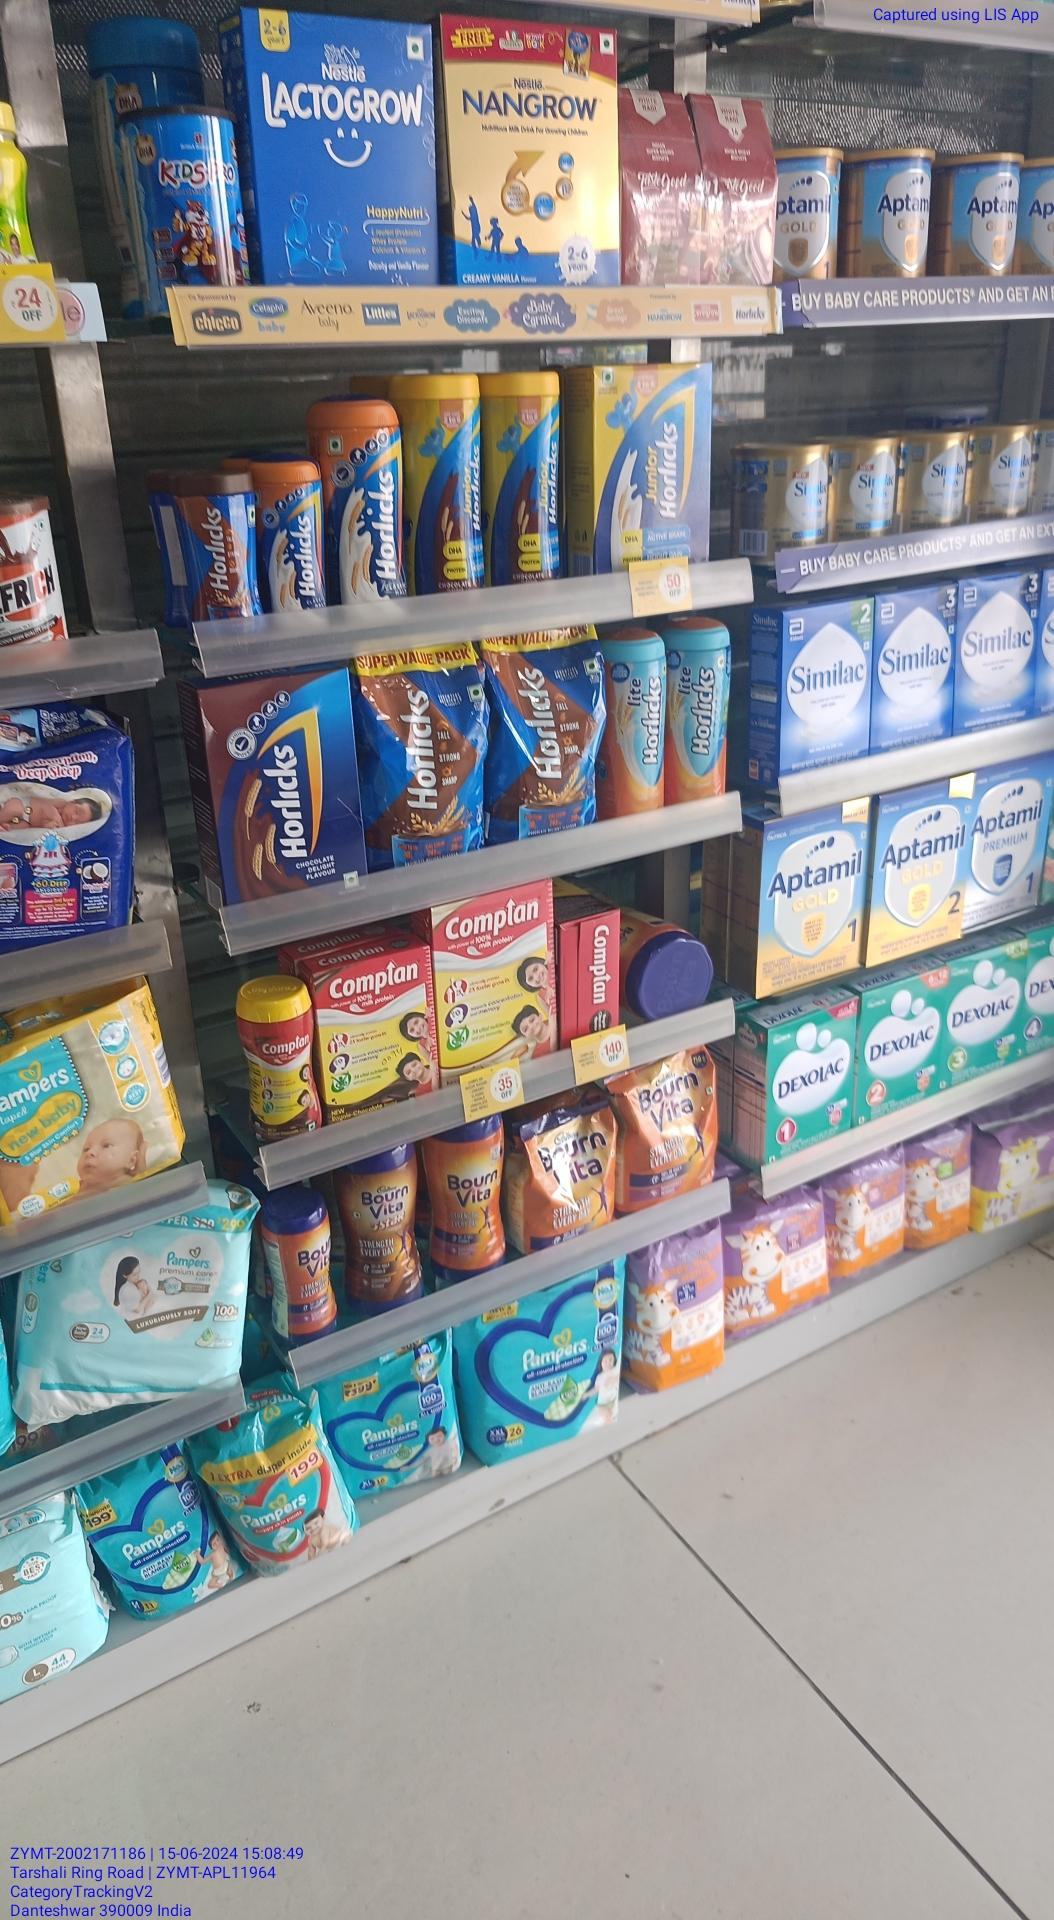BOURN_VITA_500_G_JAR: (434, 1118, 508, 1280), (282, 1184, 336, 1341)
BOURN_VITA_750_G_POUCH: (626, 1052, 722, 1188), (523, 1103, 614, 1235)
BOURN_VITA_FIVE_STAR_MAGIC_500_G_JAR: (344, 1147, 427, 1313)
COMPLAN_CHOCOLATE_500_GMS_JAR: (240, 977, 318, 1138)
COMPLAN_CHOCOLATE_500_GMS_PACK: (322, 964, 431, 1118)
COMPLAN_KESAR_BADAM_500_GMS_PACK: (437, 894, 554, 1070)
HORLICKS_LITE_REGULAR_MALT_500_GM_JAR: (602, 627, 665, 815), (670, 614, 727, 799)
HORLICK_CHOCOLATE_200_G_JAR: (182, 468, 254, 620)
HORLICK_CHOCOLATE_750_G_POUCH: (360, 645, 491, 856), (492, 633, 600, 833)
HORLICK_CLASSIC_MALT_200_G_JAR: (256, 461, 318, 611)
HORLICK_CLASSIC_MALT_500_G_JAR: (319, 402, 397, 602)
